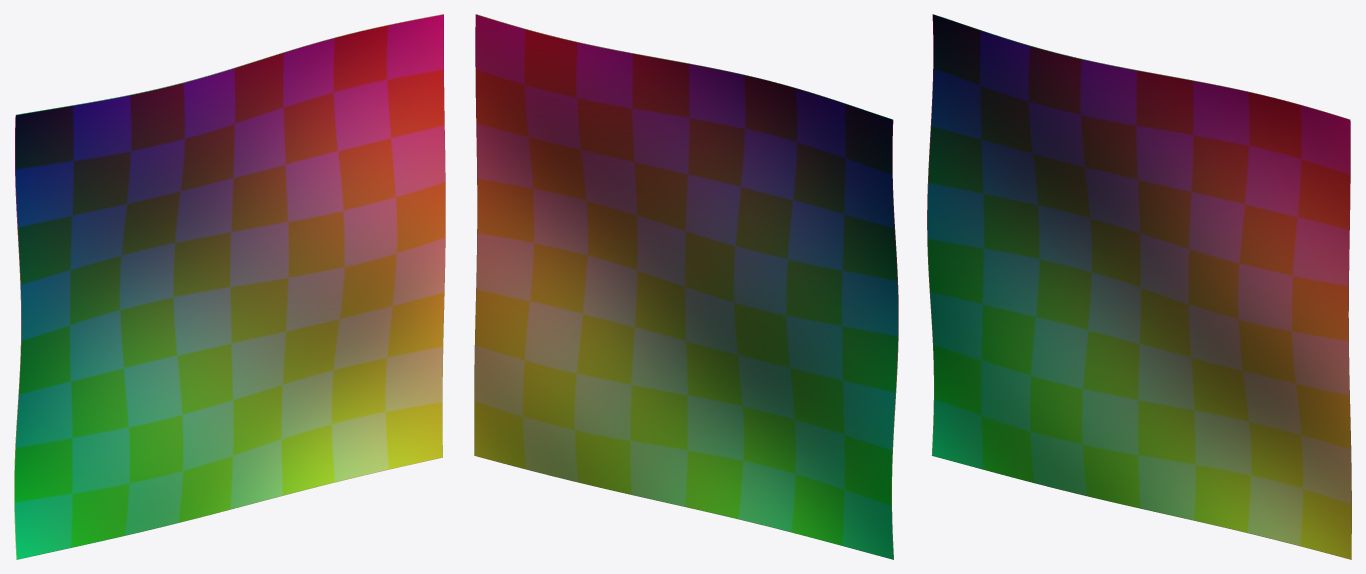
The model's file is Tile_+007_+025.obj.
3 views of the same model, side by side, from view 1: azimuth 30°, elevation 25°; view 2: azimuth 150°, elevation 25°; view 3: azimuth 330°, elevation 25° (orthographic).
Bounding box in the file's own units: 100 × 100 × 5.57.
